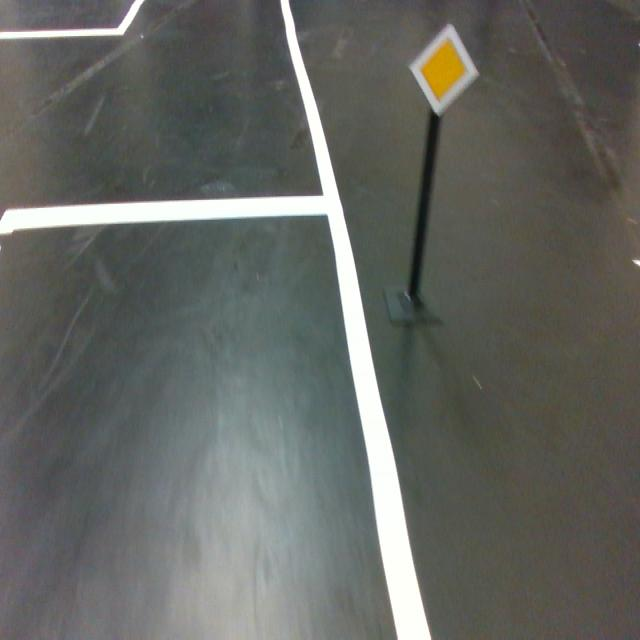priority-sign: (406, 22, 481, 118)
